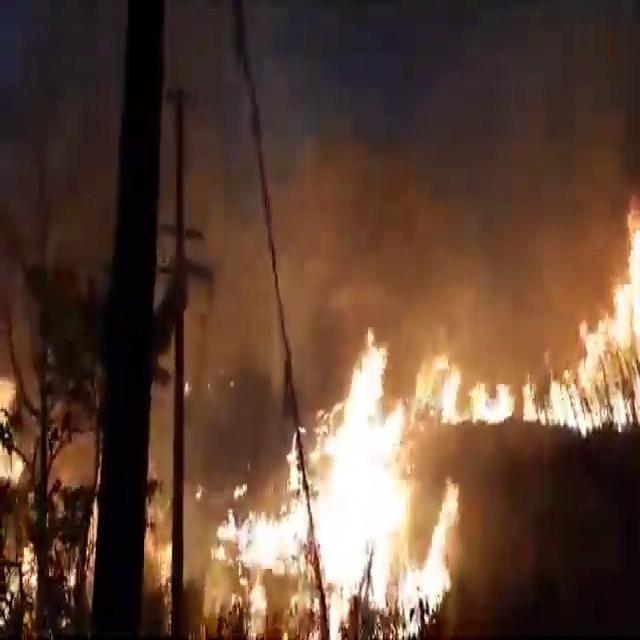Fire: (226, 334, 495, 624), (523, 186, 637, 438), (411, 458, 470, 624), (212, 490, 284, 610), (466, 378, 514, 431), (329, 574, 354, 640)
Smoke: (156, 48, 610, 285), (2, 26, 120, 328)
